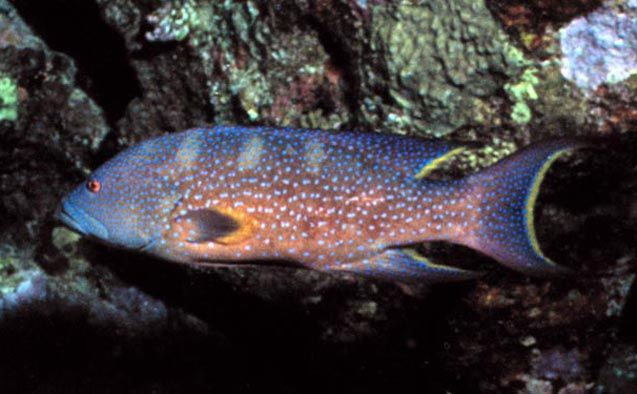fish: (58, 126, 581, 282)
